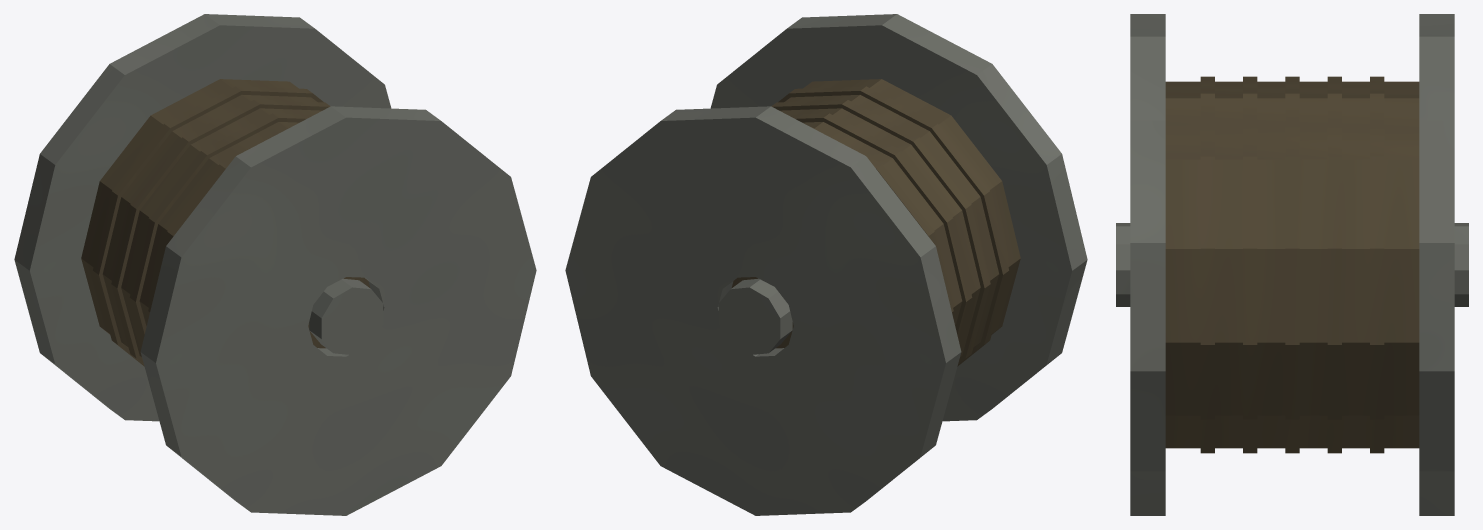
Rendered from WarrensC_WVC015_HoistDrum_Mars_SM.fbx.
3 views of the same model, side by side, from view 1: azimuth 30°, elevation 25°; view 2: azimuth 150°, elevation 25°; view 3: azimuth 270°, elevation 25° (orthographic). The views are drawn at different scales.
Visible parts, largest first — view 1: WarrensC_WVC015_HoistDrum_Mars_SM.001; view 2: WarrensC_WVC015_HoistDrum_Mars_SM.001; view 3: WarrensC_WVC015_HoistDrum_Mars_SM.001.
Boxes of the visible parts, bbox=[...] form: WarrensC_WVC015_HoistDrum_Mars_SM.001: bbox=[14, 14, 536, 515]; WarrensC_WVC015_HoistDrum_Mars_SM.001: bbox=[565, 14, 1087, 515]; WarrensC_WVC015_HoistDrum_Mars_SM.001: bbox=[1116, 14, 1468, 515].
Size of the model in its own units: 100 by 70 by 100.
